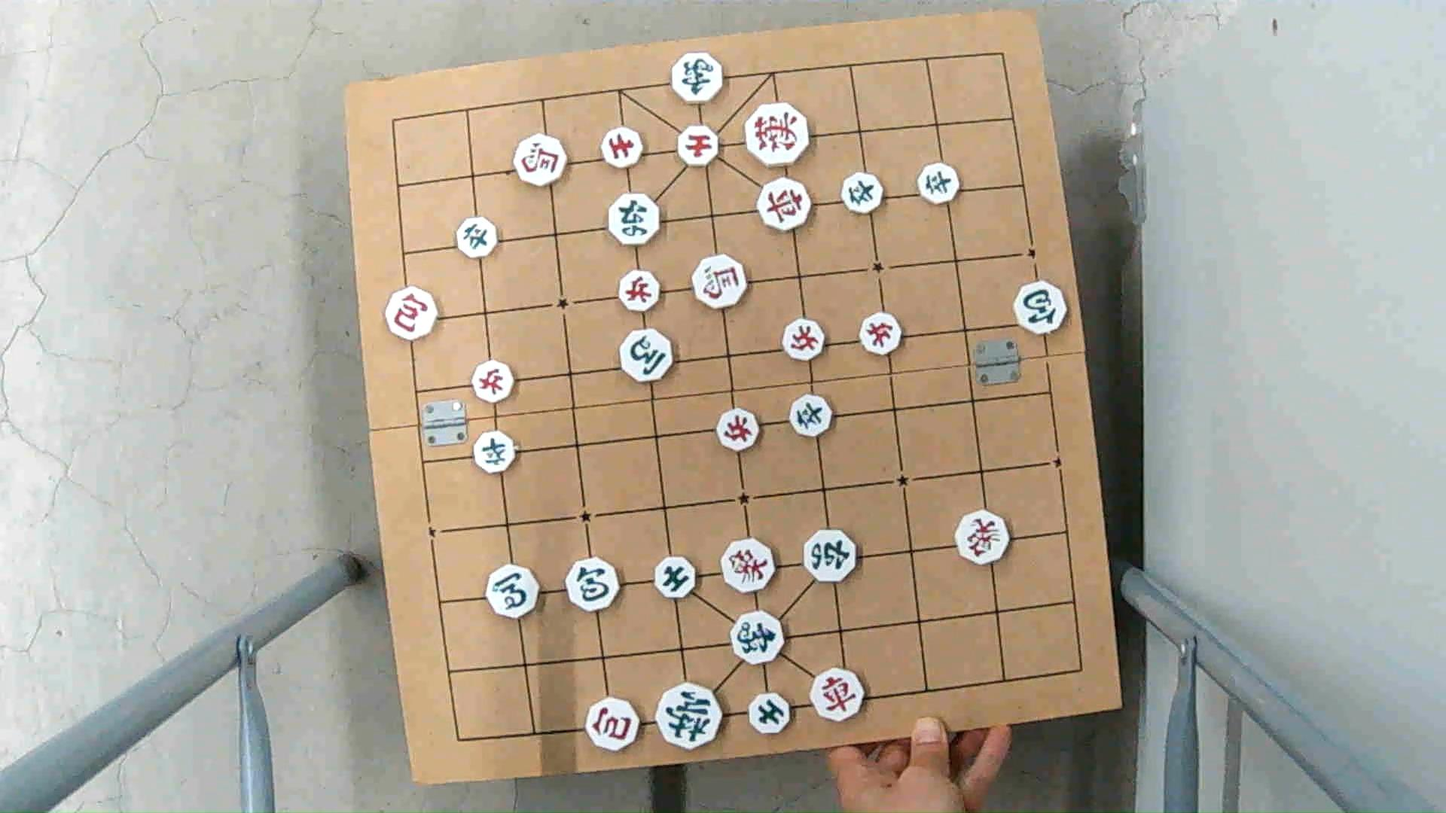cha_green: (804, 527, 858, 583), (609, 196, 664, 245)
cha_red: (810, 669, 867, 720), (758, 183, 813, 227)
jol_green: (790, 396, 836, 439), (472, 433, 519, 472), (840, 173, 884, 211), (456, 218, 500, 255), (916, 164, 960, 200)
jol_red: (713, 411, 759, 454), (469, 364, 517, 403), (857, 317, 903, 357), (779, 322, 826, 361), (617, 274, 664, 313)
ma_green: (618, 331, 675, 382), (487, 568, 541, 617)
ma_red: (691, 258, 749, 307), (512, 136, 568, 182)
po_green: (1009, 282, 1066, 330), (564, 559, 620, 607)
po_red: (584, 700, 642, 749), (383, 290, 440, 339)
sa_green: (745, 692, 792, 734), (651, 556, 699, 595)
sa_red: (677, 126, 722, 165), (599, 126, 642, 166)
sang_green: (729, 614, 787, 663), (670, 55, 721, 105)
sang_red: (955, 511, 1011, 561), (723, 542, 778, 592)
wang_green: (656, 684, 721, 753)
wang_red: (743, 104, 811, 162)
